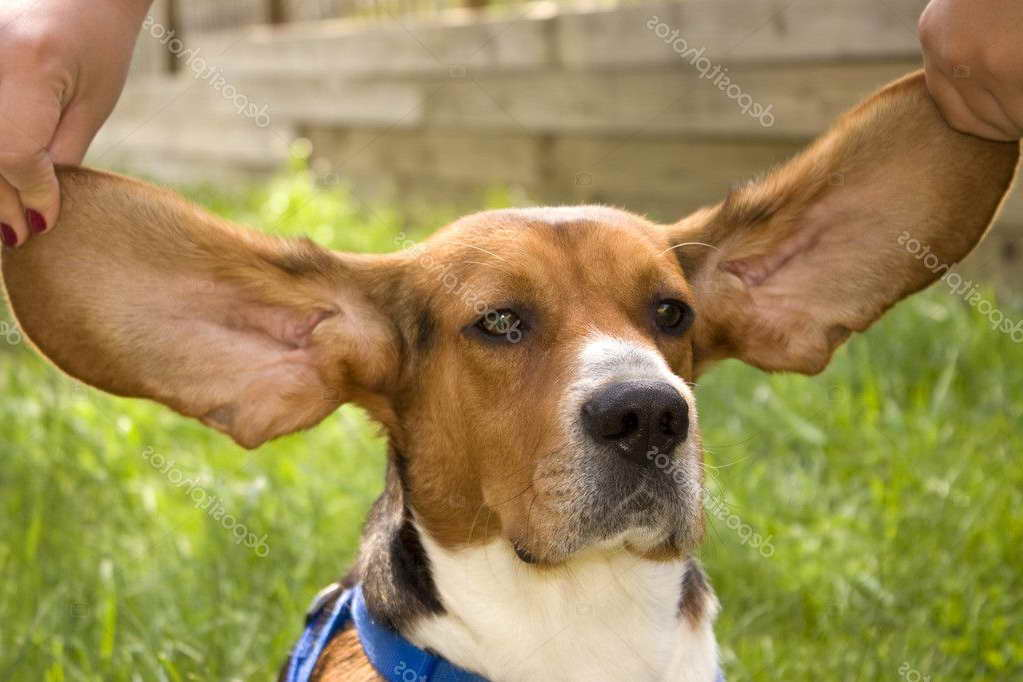dog: (24, 75, 1023, 682)
